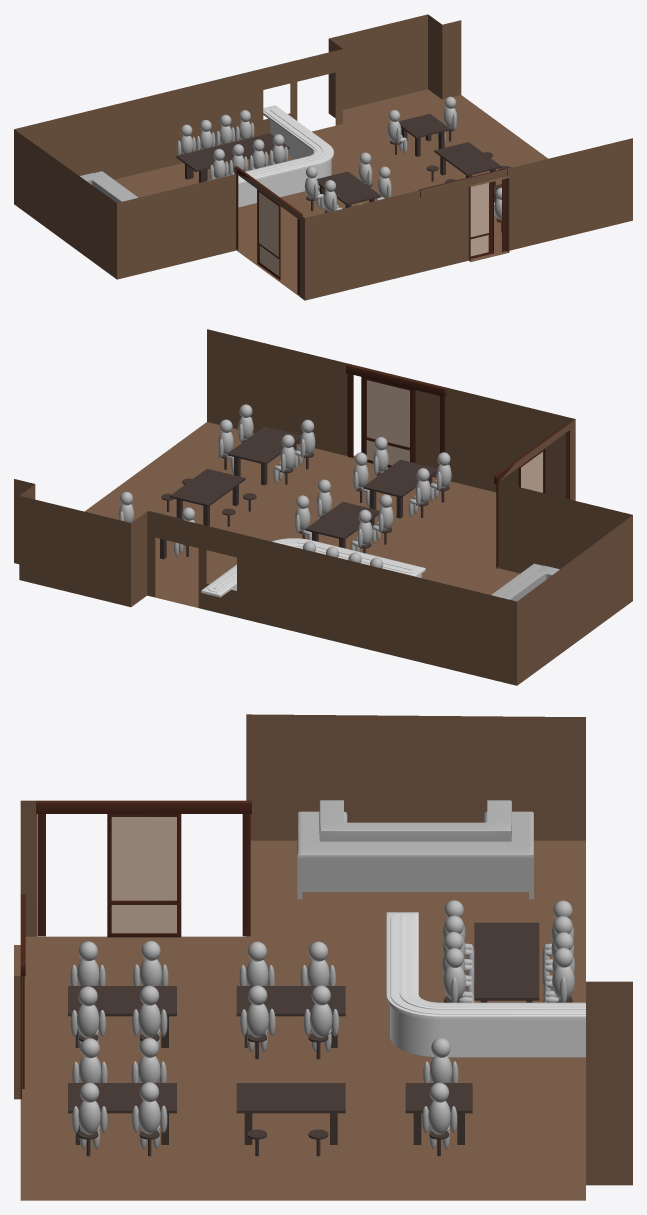
Rendered from BlockOut_Env002 (1).fbx.
3 views of the same model, one above another, from view 1: azimuth 30°, elevation 25°; view 2: azimuth 150°, elevation 25°; view 3: azimuth 270°, elevation 25° (orthographic). The views are drawn at different scales.
Parts seen in each view (by area): view 1: JapanMainRoom, BezierCurve, BezierCurve.001, ENV.005, ENV.002, Tavolo.001, Tavolo,006, Tavolo.005, Tavolo.002, Bancone, ENV.006, ENV.001 (+10 smaller); view 2: JapanMainRoom, ENV.002, Tavolo.001, Tavolo.004, ENV.001, Tavolo.003, BezierCurve, Tavolo.005, Bancone, ENV.005, ENV.006, human.012 (+8 smaller); view 3: JapanMainRoom, Bancone, ENV.005, BezierCurve.001, BezierCurve, Tavolo,006, ENV.006, Tavolo.001, Tavolo.003, Tavolo.005, Tavolo.004, Tavolo.002 (+17 smaller).
Boxes of the visible parts, x1,y1,x2,y2 form: JapanMainRoom: [14, 14, 632, 300]; BezierCurve: [207, 105, 333, 184]; BezierCurve.001: [238, 120, 331, 207]; ENV.005: [257, 189, 280, 280]; ENV.002: [470, 181, 493, 258]; Tavolo.001: [426, 142, 510, 185]; Tavolo,006: [176, 133, 289, 182]; Tavolo.005: [306, 171, 387, 212]; Tavolo.002: [390, 114, 455, 156]; Bancone: [80, 171, 138, 202]; ENV.006: [234, 166, 302, 295]; ENV.001: [419, 168, 507, 251]; JapanMainRoom: [14, 329, 632, 685]; ENV.002: [361, 377, 415, 467]; Tavolo.001: [161, 468, 256, 526]; Tavolo.004: [356, 459, 449, 518]; ENV.001: [346, 364, 446, 457]; Tavolo.003: [219, 426, 313, 485]; BezierCurve: [201, 538, 425, 597]; Tavolo.005: [299, 502, 392, 553]; Bancone: [491, 563, 559, 601]; ENV.005: [518, 448, 545, 493]; ENV.006: [494, 422, 569, 568]; human.012: [273, 434, 295, 483]; JapanMainRoom: [14, 714, 632, 1200]; Bancone: [297, 800, 533, 899]; ENV.005: [107, 814, 181, 937]; BezierCurve.001: [390, 1006, 585, 1057]; BezierCurve: [386, 912, 585, 1019]; Tavolo,006: [444, 922, 572, 1002]; ENV.006: [36, 800, 251, 936]; Tavolo.001: [236, 1083, 345, 1156]; Tavolo.003: [68, 1083, 176, 1156]; Tavolo.005: [236, 986, 345, 1059]; Tavolo.004: [68, 986, 176, 1047]; Tavolo.002: [405, 1083, 472, 1156].
Size of the model in its own units: 1702 by 301 by 1237.
